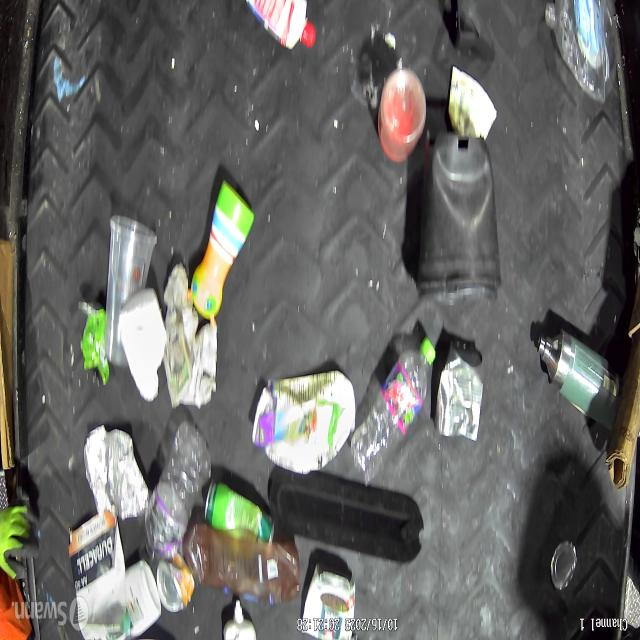can: (534, 328, 619, 428), (434, 340, 484, 443), (204, 478, 275, 545), (301, 559, 356, 640), (156, 553, 195, 613), (549, 540, 577, 590)
plastic_bottle: (350, 338, 436, 488), (143, 420, 210, 564), (543, 0, 616, 106)
